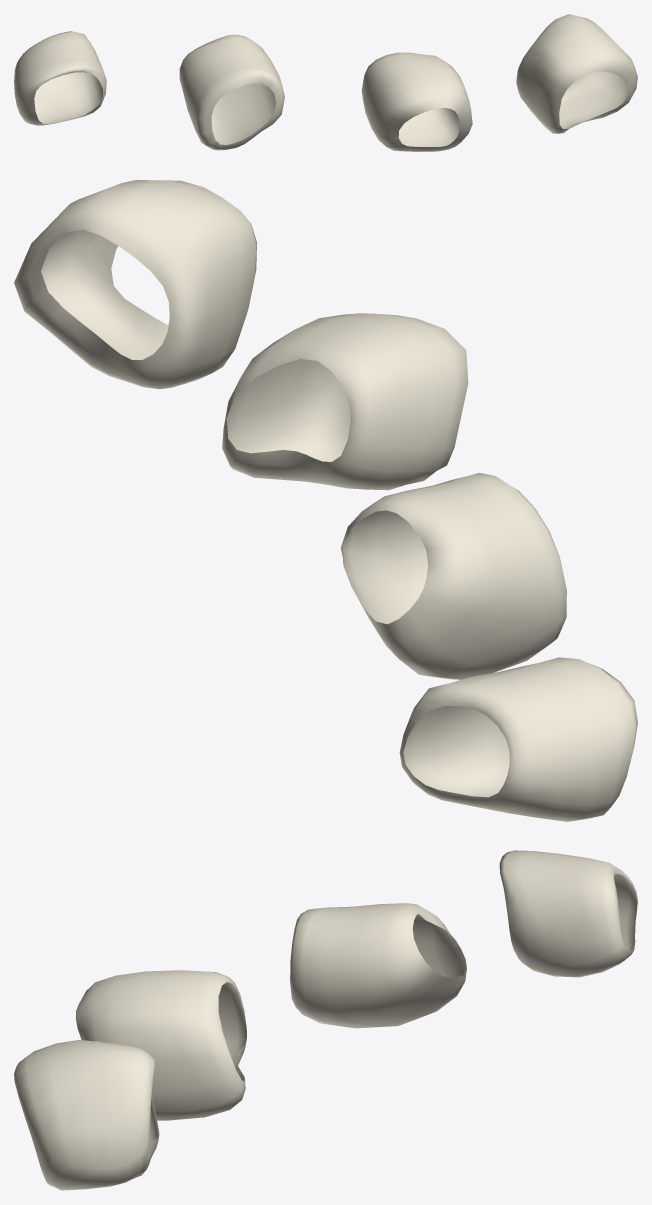
3 renders of one model, top to bottom at view 1: azimuth 30°, elevation 25°; view 2: azimuth 150°, elevation 25°; view 3: azimuth 270°, elevation 25°, orthographic. The views are drawn at different scales.
Parts seen in each view (by area): view 1: ZA_e2d5896b62a62750; view 2: ZA_e2d5896b62a62750; view 3: ZA_e2d5896b62a62750.
Part boxes in pixels (x1,y1,x2,y2): ZA_e2d5896b62a62750: (14,14,637,151); ZA_e2d5896b62a62750: (14,180,637,821); ZA_e2d5896b62a62750: (14,850,637,1190).
Size of the model in its own units: 0.0517 by 0.0126 by 0.0408.
